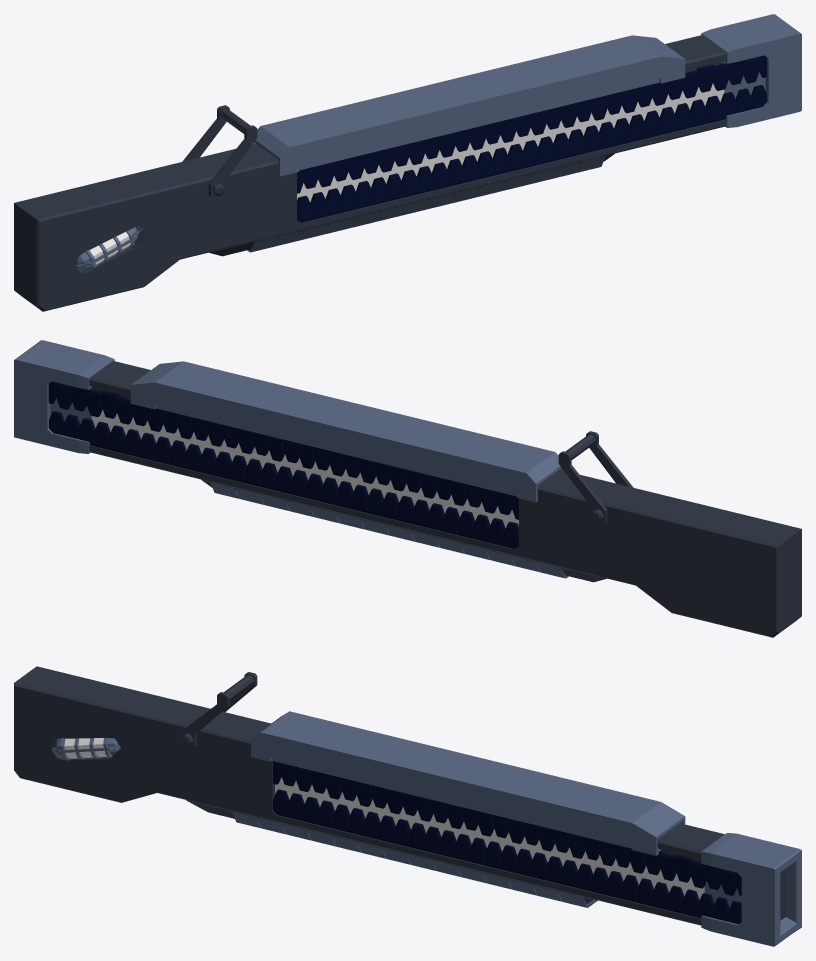
File: RailGun 1.fbx
The picture shows the model from 3 angles, top to bottom: view 1: azimuth 30°, elevation 25°; view 2: azimuth 150°, elevation 25°; view 3: azimuth 330°, elevation 25°; orthographic projection.
Visible parts, largest first — view 1: Cylinder.001, Cube.010; view 2: Cylinder.001, Cube.010; view 3: Cylinder.001, Cube.010.
Part boxes in pixels (bbox=[...]): Cylinder.001: bbox=[14, 14, 801, 311]; Cube.010: bbox=[297, 55, 766, 222]; Cylinder.001: bbox=[14, 340, 801, 637]; Cube.010: bbox=[48, 381, 518, 548]; Cylinder.001: bbox=[14, 666, 801, 946]; Cube.010: bbox=[273, 761, 741, 924].
Bounding box in the file's own units: 2130 × 364 × 167.
